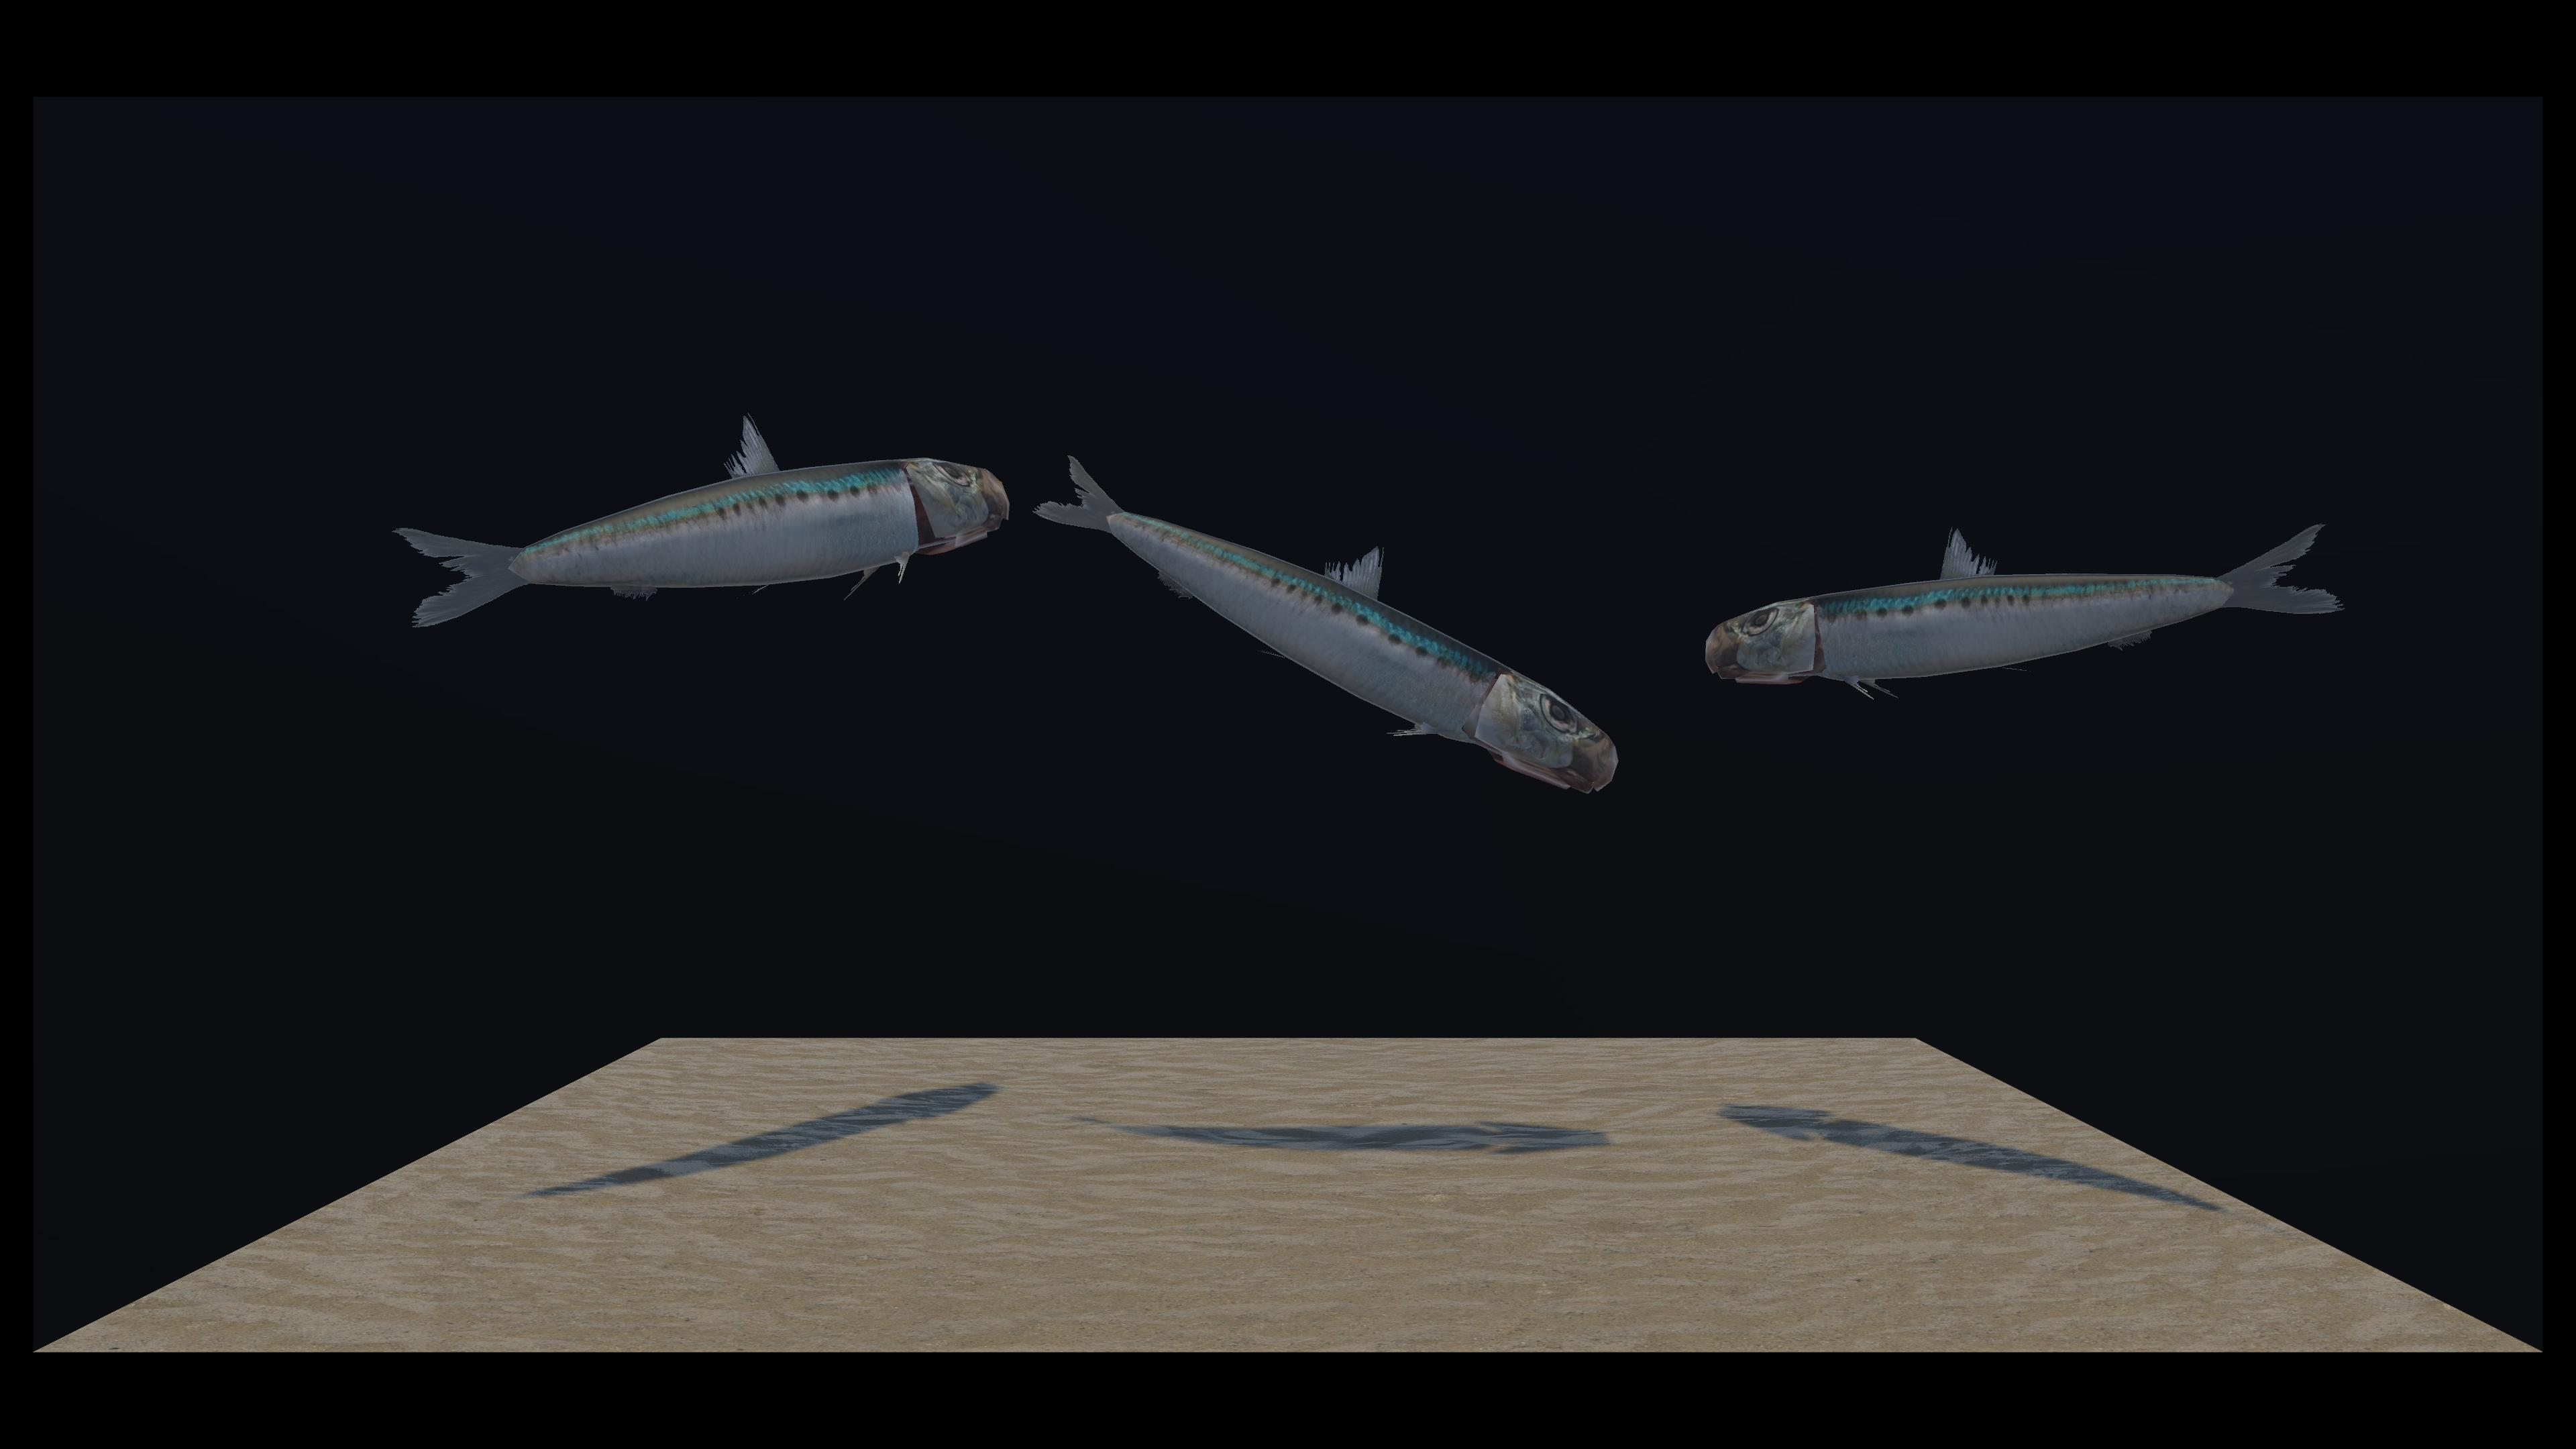Sardine_Front: (939, 274, 2341, 709), (778, 455, 1605, 748), (405, 428, 975, 625)
